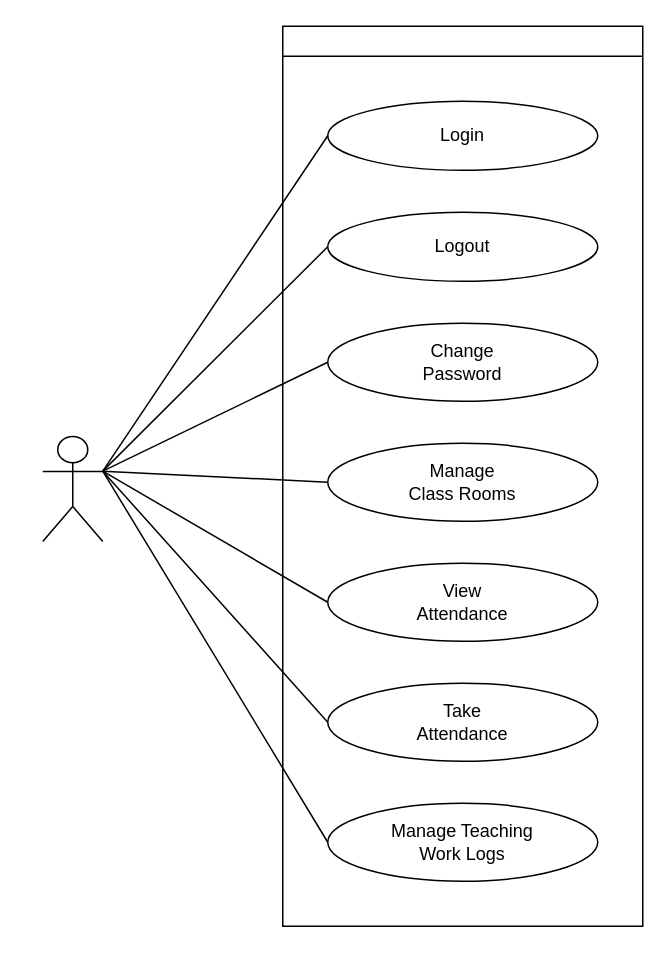
The diagram is 669 pixels wide and 953 high, and some of its shapes have lost their labels. The box of each missing label's shape, as (x1, y1, x2, y2) in pixels:
Assistant: (41, 435, 103, 542)
LMSERP OneWorld: (281, 25, 643, 926)
